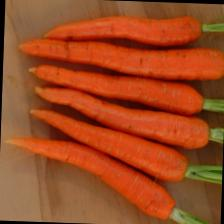carrot: (0, 136, 177, 220), (25, 108, 190, 182), (31, 84, 211, 150), (17, 36, 224, 81), (26, 63, 204, 115), (41, 10, 202, 48)
